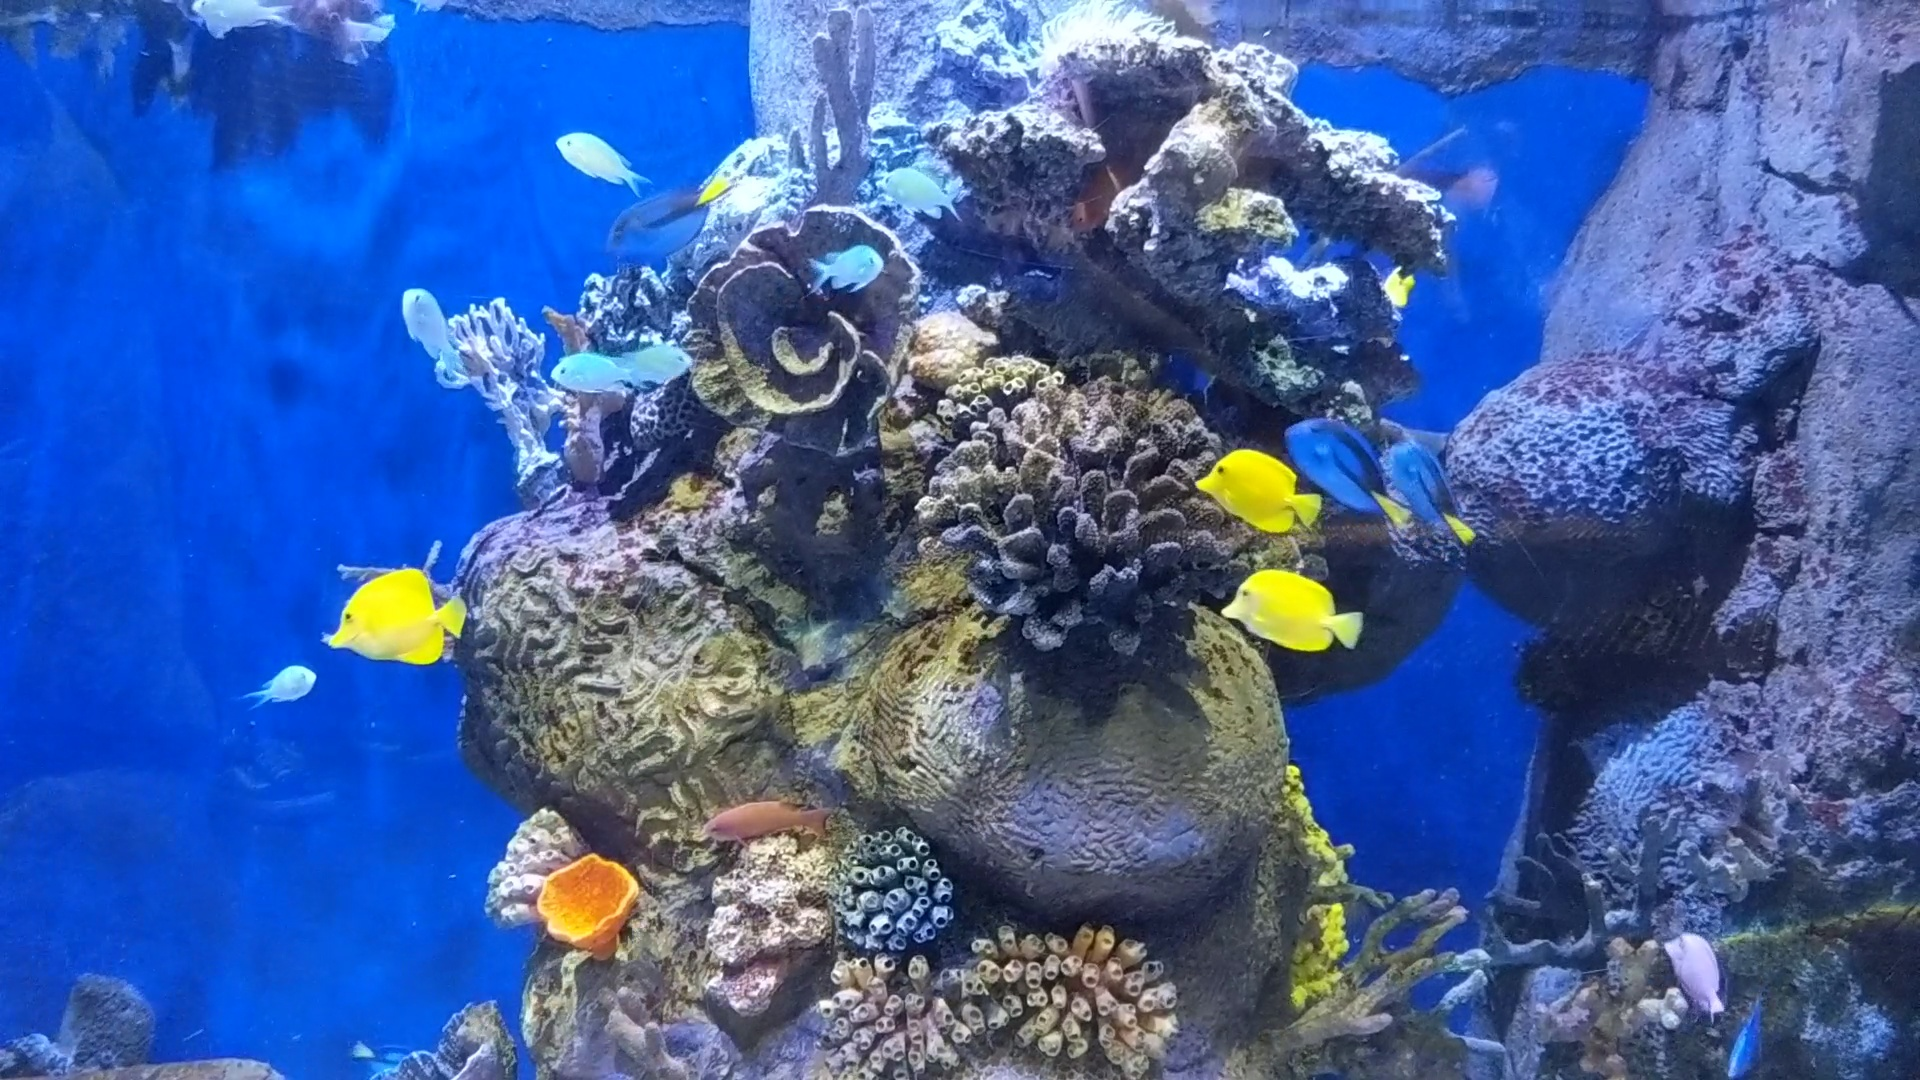blue tang surgeonfish: (1288, 411, 1412, 522), (588, 169, 729, 251), (1386, 442, 1478, 553)
damselfish: (396, 266, 476, 380), (550, 115, 647, 195), (538, 342, 647, 407), (232, 650, 324, 712), (607, 336, 703, 394), (866, 167, 965, 218), (799, 243, 885, 291)
pink fish: (682, 778, 847, 847)
saddle butterfly fish: (310, 562, 472, 669), (1217, 558, 1374, 658), (1191, 438, 1327, 542)
